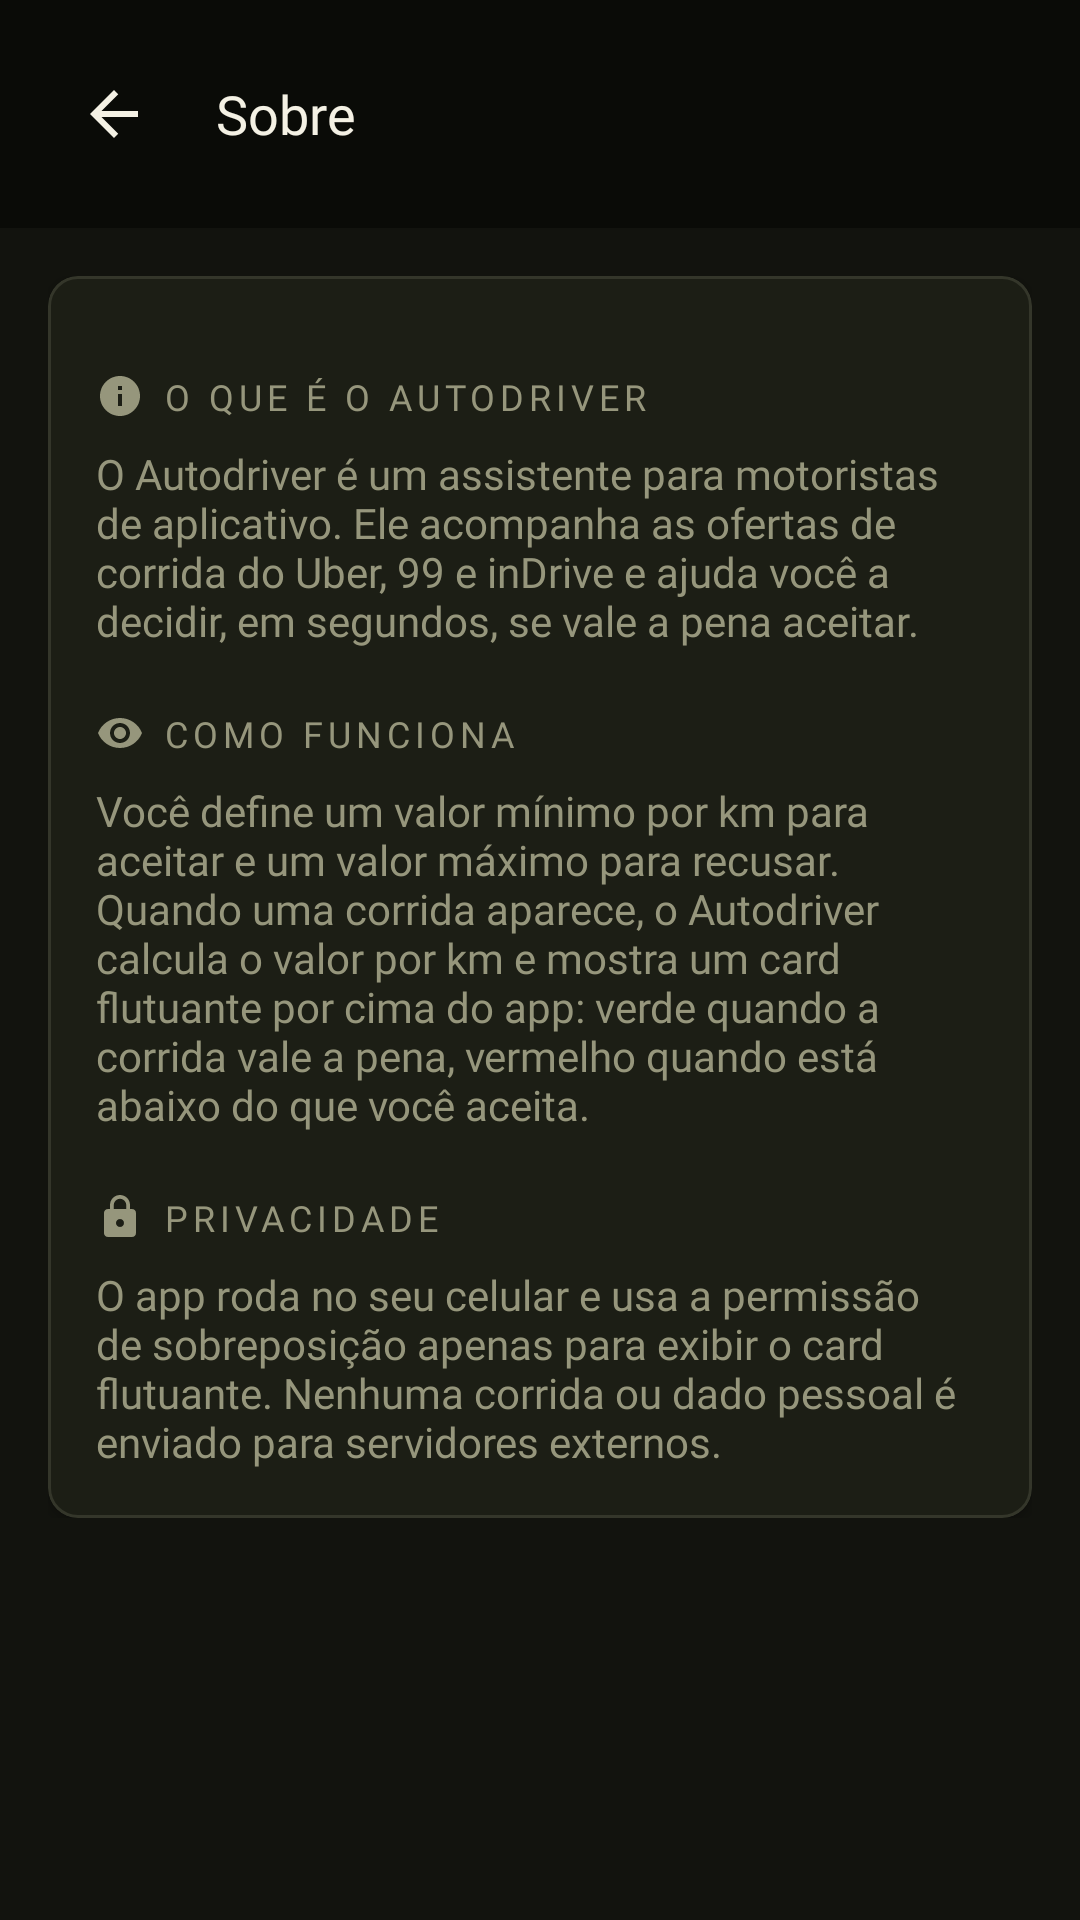

Where icons sit on this 1080px x 1920px app screen, as (x1, y1, x2, y2):
arrow back: (90, 90, 138, 138)
info: (100, 376, 140, 416)
lock: (104, 1195, 136, 1237)
visibility: (98, 718, 142, 748)
